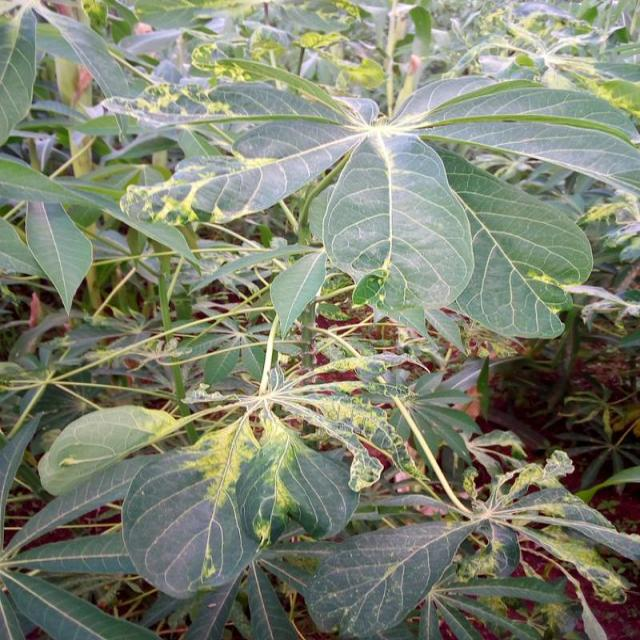cassava leaf: (116, 66, 638, 345), (320, 129, 474, 325)
